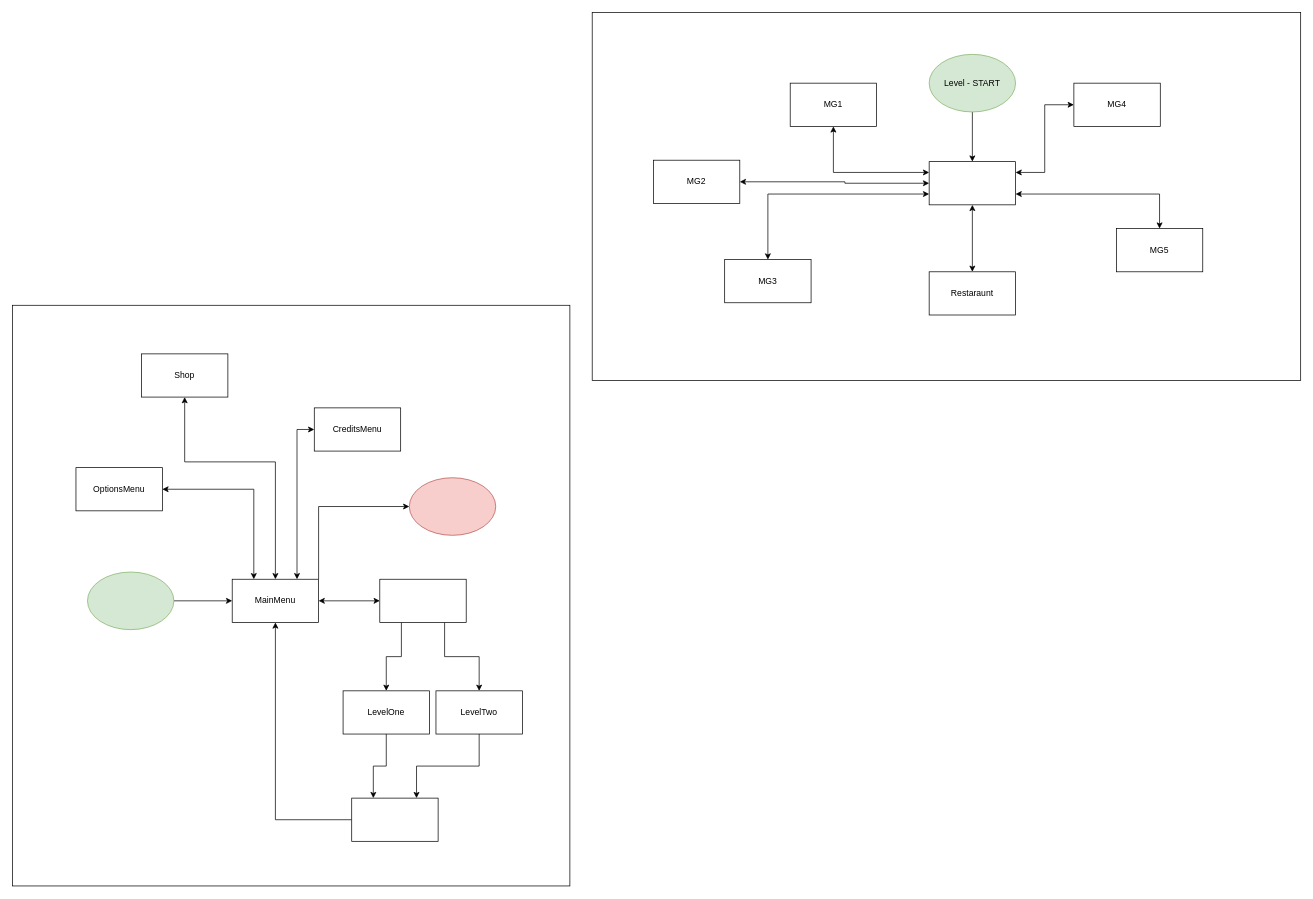
The diagram is 1313 pixels wide and 899 high, and some of its shapes have lost their labels. The shapes that lost their labels are listed below. From the top down, each one's centre as x and y in pixels, then its label:
(x=972, y=183): Kitchen
(x=452, y=506): END
(x=130, y=600): START
(x=422, y=600): LevelSelection
(x=394, y=819): LevelOver
